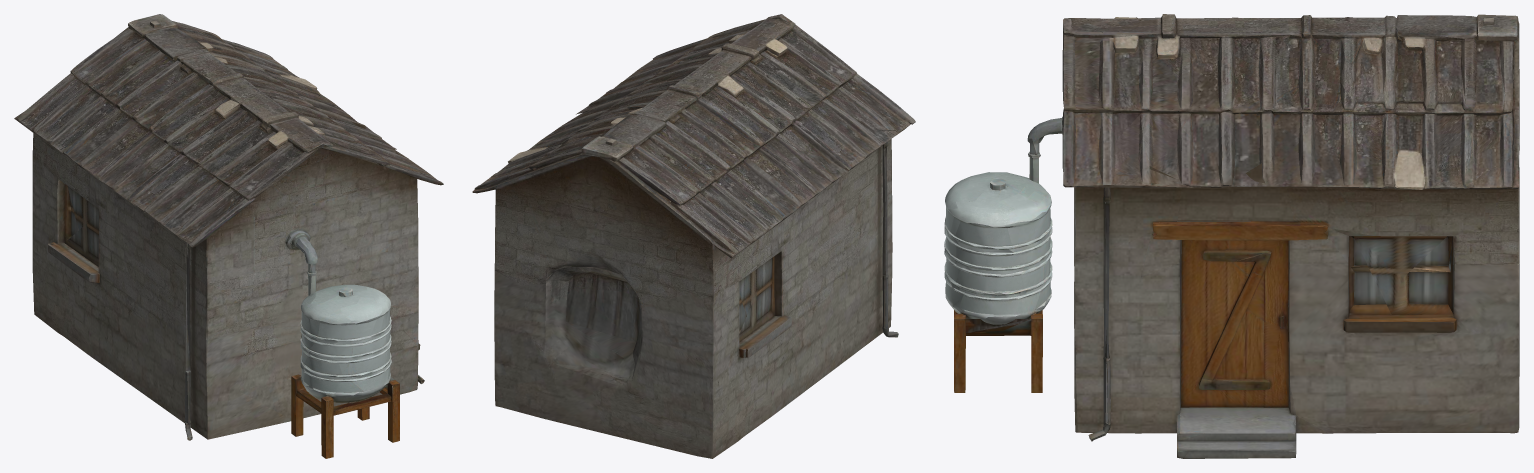
File: pump_house.glb
3 renders of one model, left to right at view 1: azimuth 30°, elevation 25°; view 2: azimuth 150°, elevation 25°; view 3: azimuth 270°, elevation 25°, orthographic. The views are drawn at different scales.
Parts seen in each view (by area): view 1: wall, roof; view 2: wall, roof; view 3: wall, roof.
Part boxes in pixels (x1,y1,x2,y2): wall: [14, 22, 443, 458]; roof: [14, 14, 442, 273]; wall: [472, 16, 915, 458]; roof: [472, 14, 914, 256]; wall: [944, 15, 1519, 458]; roof: [1028, 14, 1519, 236].
Size of the model in its own units: 3.93 by 3.8 by 5.61.
Materials: 1 (1 with a texture image).
